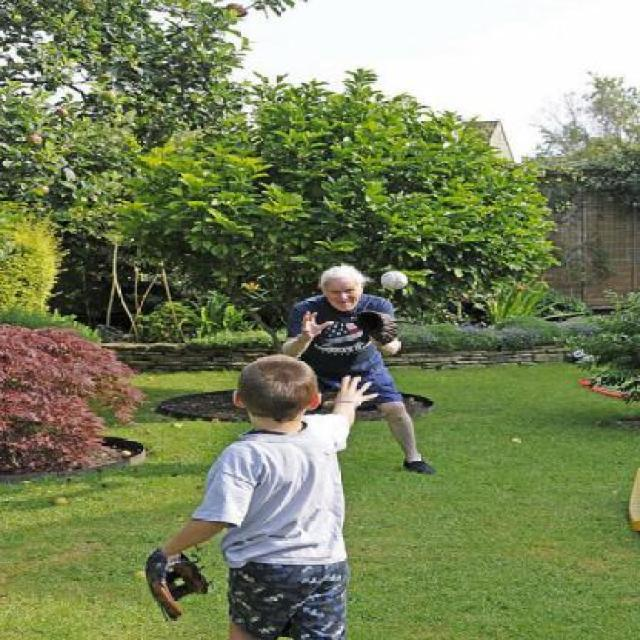Person: (136, 358, 387, 630), (283, 264, 437, 474)
